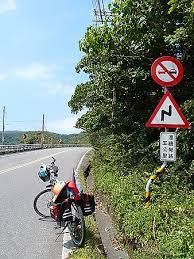double_bend_right: (143, 89, 190, 128)
